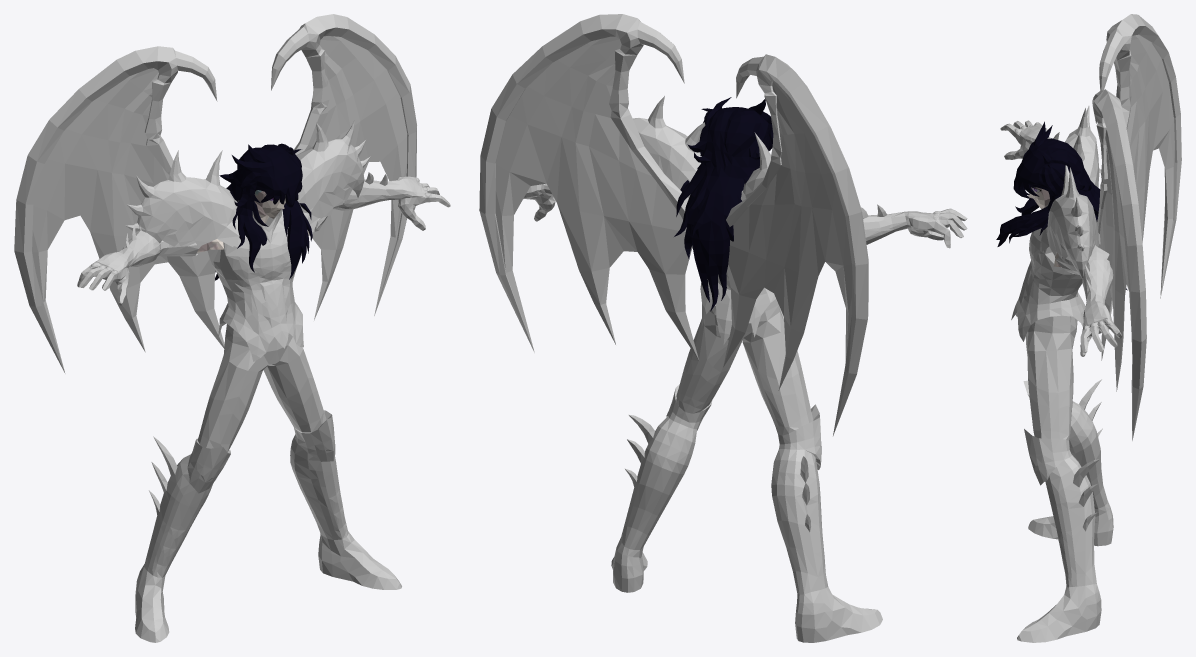
Rendered from Balrog.fbx.
3 views of the same model, side by side, from view 1: azimuth 30°, elevation 25°; view 2: azimuth 150°, elevation 25°; view 3: azimuth 270°, elevation 25° (orthographic). The views are drawn at different scales.
Parts seen in each view (by area): view 1: Torso, alaDer, alaIzq, Piernas, BotaDer, BotaIzq, HombreraDer, Cabello, HombreraIzq, BrazoDer, BrazoIzq; view 2: alaIzq, Torso, alaDer, BotaDer, Cabello, Piernas, BotaIzq, HombreraIzq, BrazoDer, HombreraDer; view 3: Torso, BotaIzq, alaDer, Piernas, Cabello, alaIzq, BotaDer, HombreraIzq, BrazoIzq, HombreraDer, BrazoDer, rostro.
Part boxes in pixels (left/top/right/bottom): Torso: left=14, top=14, right=416, bottom=372; alaDer: left=32, top=68, right=224, bottom=371; alaIzq: left=308, top=36, right=407, bottom=320; Piernas: left=197, top=324, right=326, bottom=451; BotaDer: left=135, top=435, right=230, bottom=642; BotaIzq: left=290, top=410, right=401, bottom=589; HombreraDer: left=126, top=150, right=239, bottom=246; Cabello: left=215, top=143, right=312, bottom=280; HombreraIzq: left=296, top=120, right=370, bottom=233; BrazoDer: left=77, top=223, right=200, bottom=305; BrazoIzq: left=313, top=172, right=450, bottom=231; alaIzq: left=495, top=36, right=699, bottom=360; Torso: left=479, top=14, right=868, bottom=435; alaDer: left=723, top=81, right=851, bottom=402; BotaDer: left=771, top=404, right=882, bottom=642; Cabello: left=674, top=97, right=773, bottom=311; Piernas: left=676, top=299, right=810, bottom=430; BotaIzq: left=611, top=384, right=712, bottom=592; HombreraIzq: left=632, top=96, right=705, bottom=198; BrazoDer: left=861, top=204, right=967, bottom=248; HombreraDer: left=741, top=132, right=771, bottom=200; Torso: left=1011, top=14, right=1181, bottom=440; BotaIzq: left=1017, top=429, right=1101, bottom=642; alaDer: left=1110, top=34, right=1174, bottom=315; Piernas: left=1025, top=315, right=1077, bottom=440; Cabello: left=996, top=121, right=1127, bottom=290; alaIzq: left=1099, top=130, right=1132, bottom=391; BotaDer: left=1023, top=379, right=1113, bottom=546; HombreraIzq: left=1041, top=165, right=1100, bottom=278; BrazoIzq: left=1055, top=245, right=1121, bottom=356; HombreraDer: left=1065, top=106, right=1099, bottom=187; BrazoDer: left=1000, top=120, right=1101, bottom=173; rostro: left=1028, top=187, right=1049, bottom=209.
Size of the model in its own units: 67.17 by 87.88 by 27.85.
Materials: 11 (2 with a texture image).
